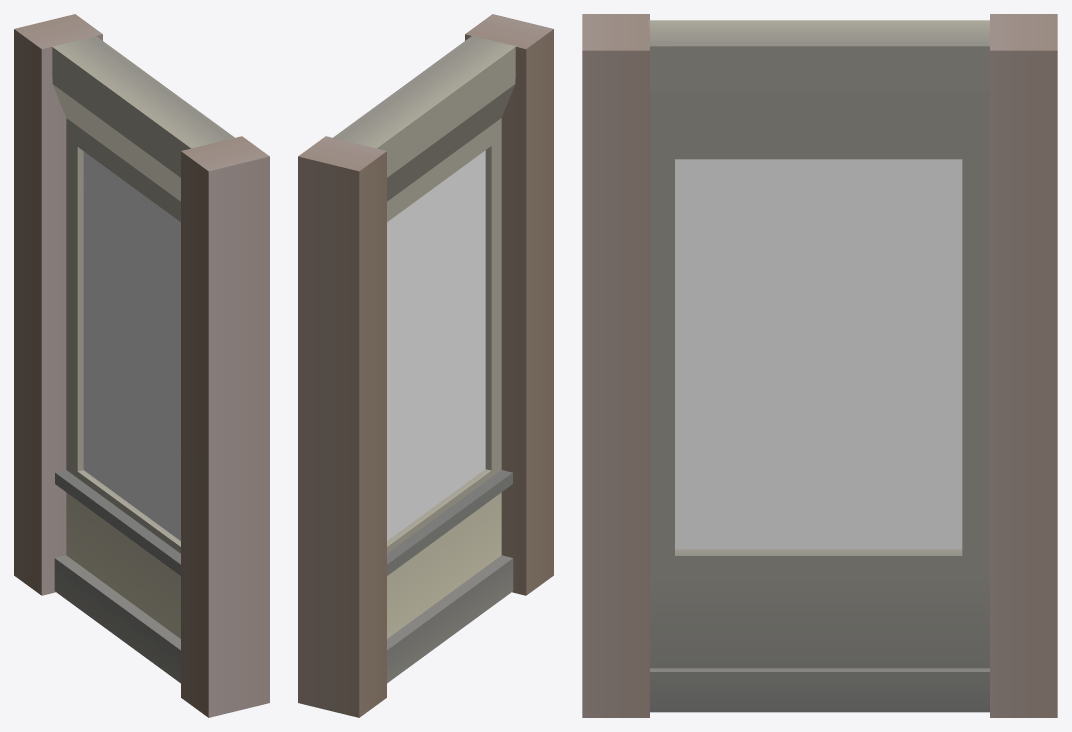
The model's file is B01_fenetre_4.fbx.
3 views of the same model, side by side, from view 1: azimuth 30°, elevation 25°; view 2: azimuth 150°, elevation 25°; view 3: azimuth 270°, elevation 25° (orthographic). The views are drawn at different scales.
Parts seen in each view (by area): view 1: B01_fenetre_4; view 2: B01_fenetre_4; view 3: B01_fenetre_4.
Boxes of the visible parts, left/top/right/bottom form: B01_fenetre_4: left=14, top=14, right=269, bottom=717; B01_fenetre_4: left=298, top=14, right=553, bottom=717; B01_fenetre_4: left=582, top=14, right=1057, bottom=717.
Size of the model in its own units: 35.78 by 305 by 197.
